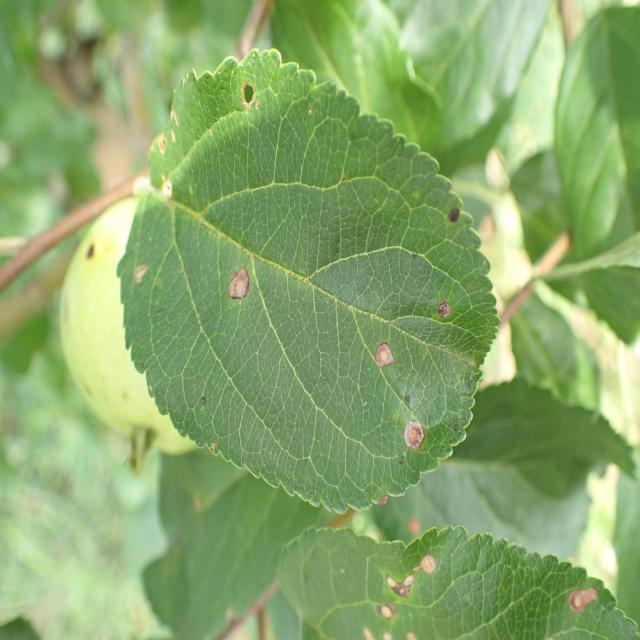frog-eye-leaf-spot: (117, 48, 503, 518), (276, 524, 640, 640)
